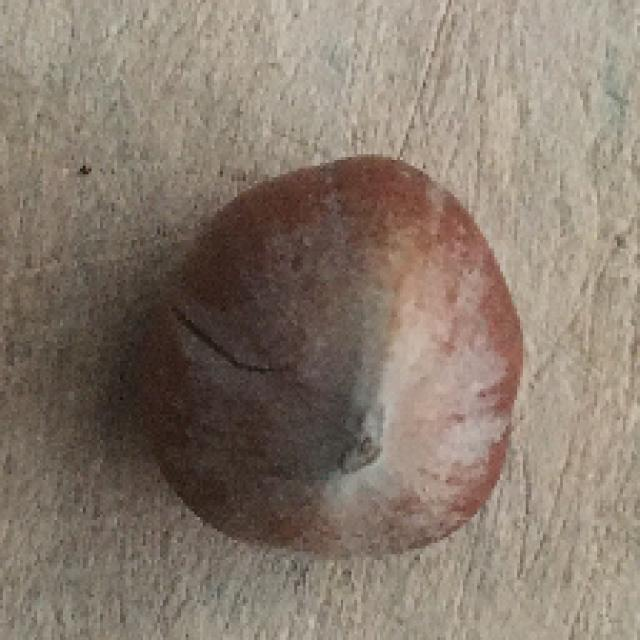qualityHazelnut: (130, 150, 533, 568)
